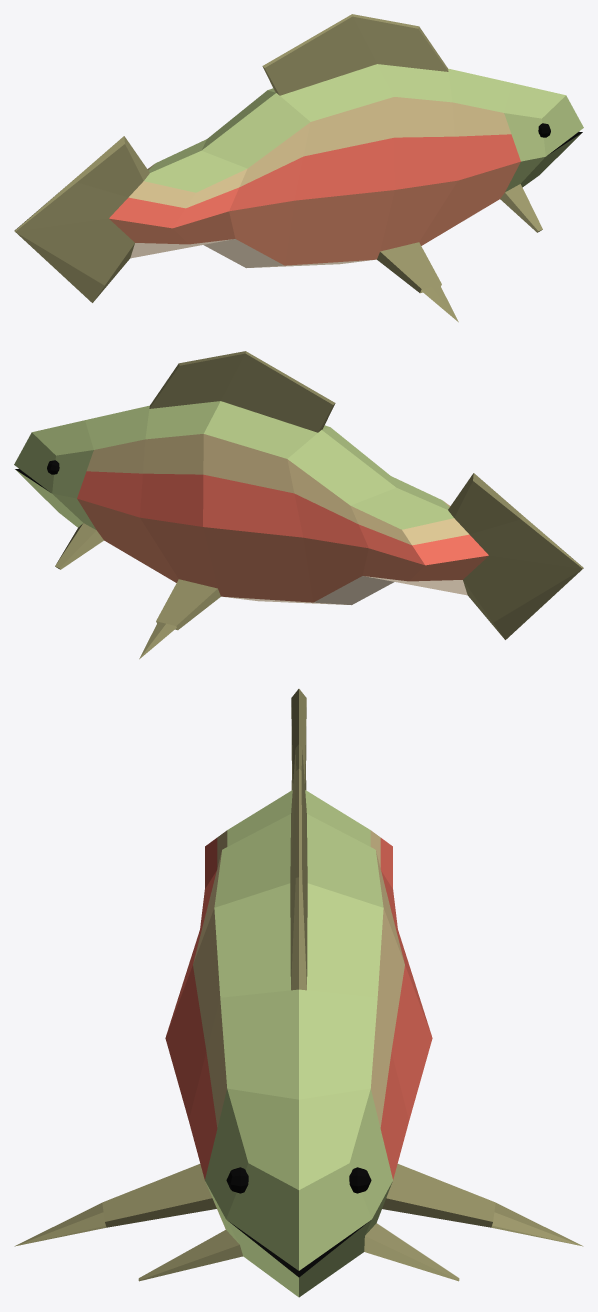
Rendered from FISH_V1.fbx.
3 views of the same model, one above another, from view 1: azimuth 30°, elevation 25°; view 2: azimuth 150°, elevation 25°; view 3: azimuth 270°, elevation 25° (orthographic). The views are drawn at different scales.
Visible parts, largest first — view 1: Plane; view 2: Plane; view 3: Plane.
Part boxes in pixels (x1=…): Plane: x1=14, y1=14, x2=583, y2=322; Plane: x1=14, y1=351, x2=583, y2=659; Plane: x1=14, y1=689, x2=583, y2=1297.
Size of the model in its own units: 171 by 73.62 by 83.57.
